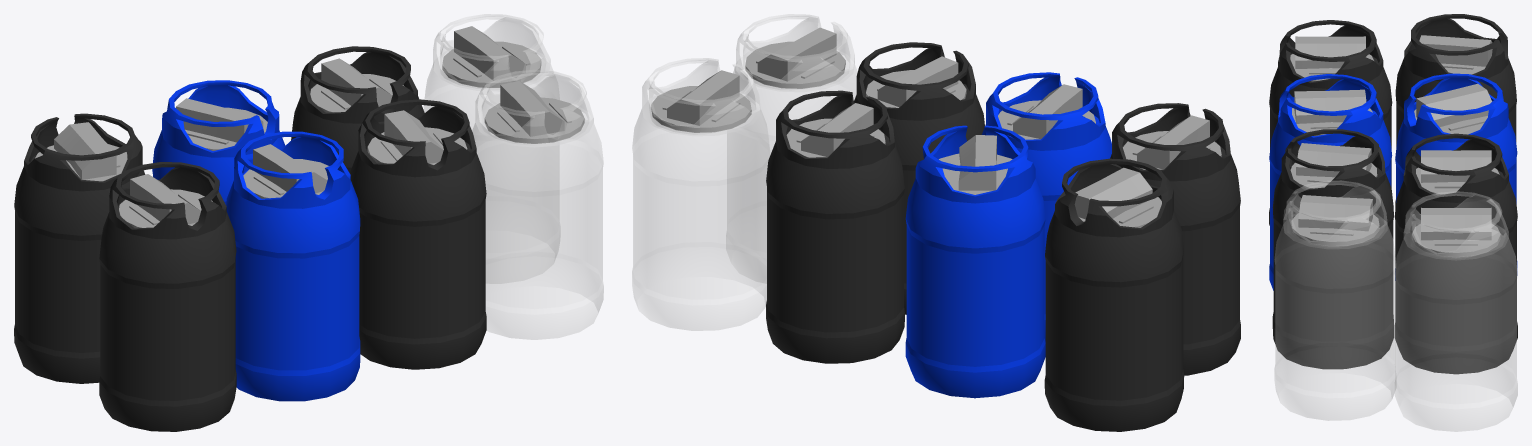
Rendered from BeerKeg_byk96e_Pack02.fbx.
3 renders of one model, left to right at view 1: azimuth 30°, elevation 25°; view 2: azimuth 150°, elevation 25°; view 3: azimuth 270°, elevation 25°, orthographic. The views are drawn at different scales.
Visible parts, largest first — view 1: BeerKeg_byk96e_Pack02; view 2: BeerKeg_byk96e_Pack02; view 3: BeerKeg_byk96e_Pack02.
Boxes of the visible parts, x1,y1,x2,y2 form: BeerKeg_byk96e_Pack02: [14, 14, 603, 431]; BeerKeg_byk96e_Pack02: [632, 14, 1240, 431]; BeerKeg_byk96e_Pack02: [1269, 14, 1517, 431].
Size of the model in its own units: 95.34 by 38.22 by 43.74.
